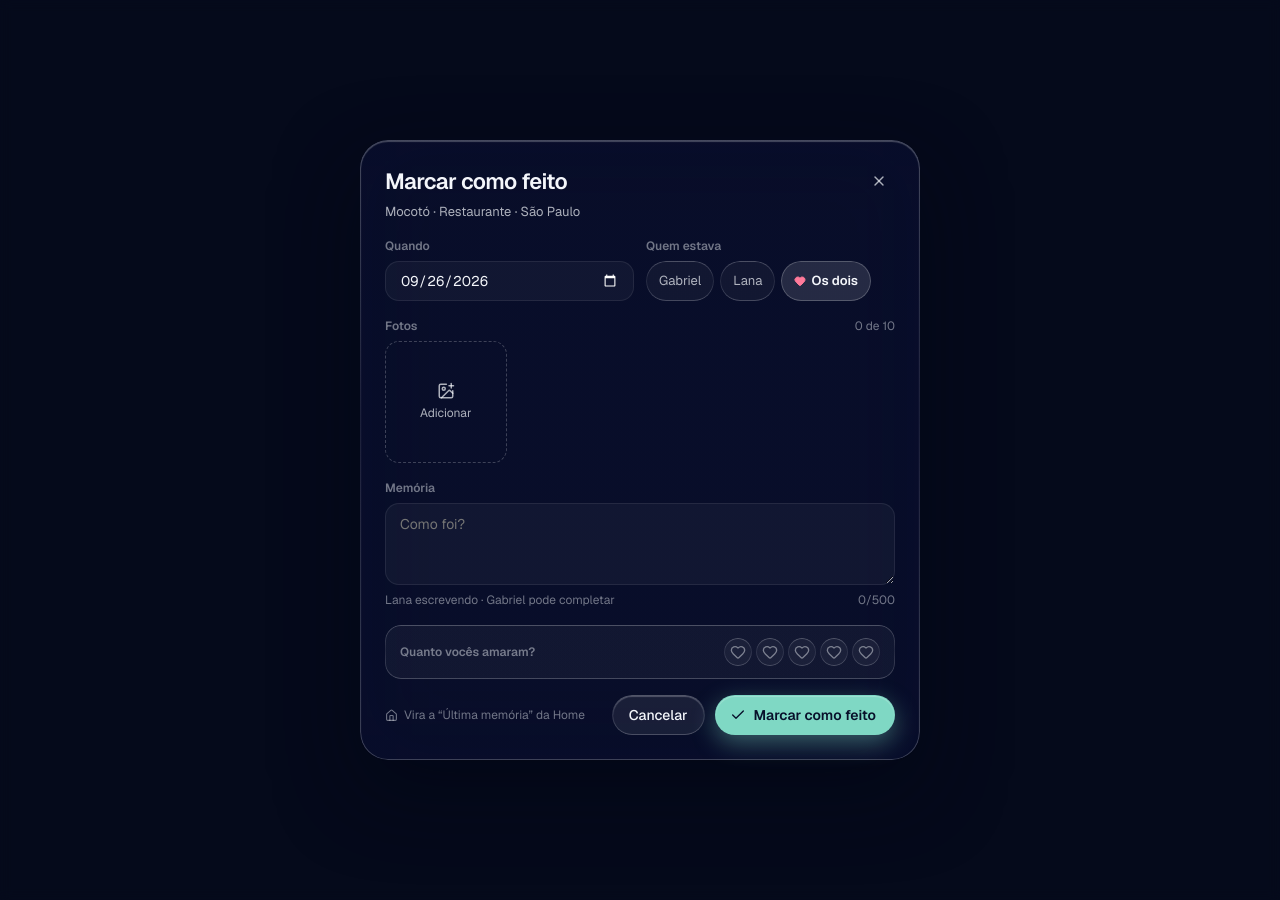
Scenario: A15 — gravar (seção 7) › already_done visto pela Lana diz o nome do Gabriel
The image size is (1280, 900).
Click the button "Marcar como feito": click(805, 715) [715,695,895,735]
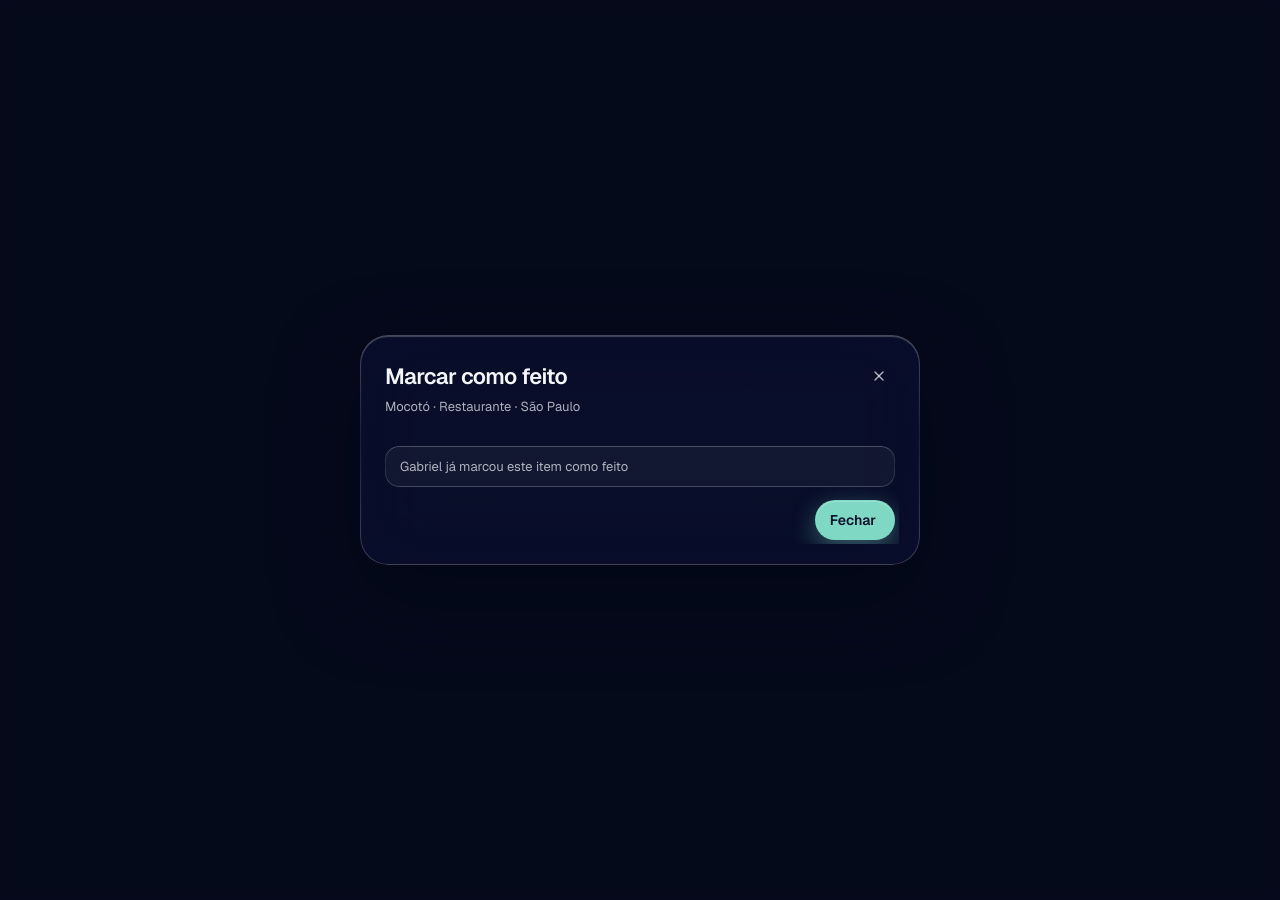
Expected: the text "Gabriel já marcou este item como feito" is shown, [385,446,895,487]
